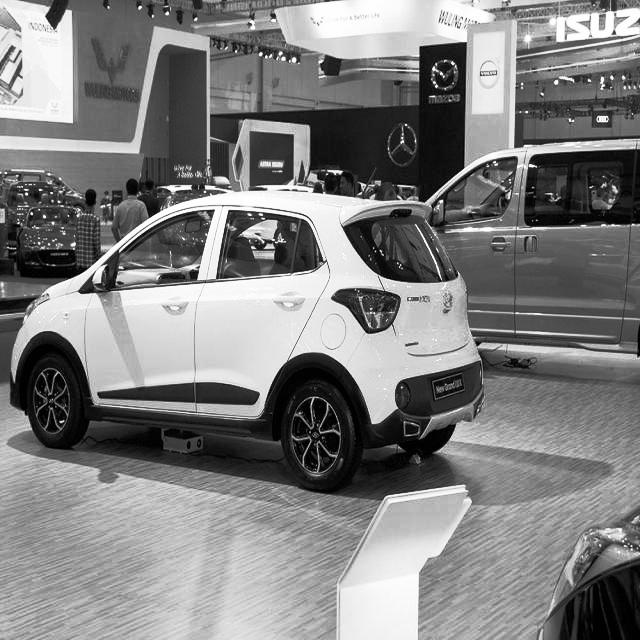Car: (21, 193, 487, 486)
